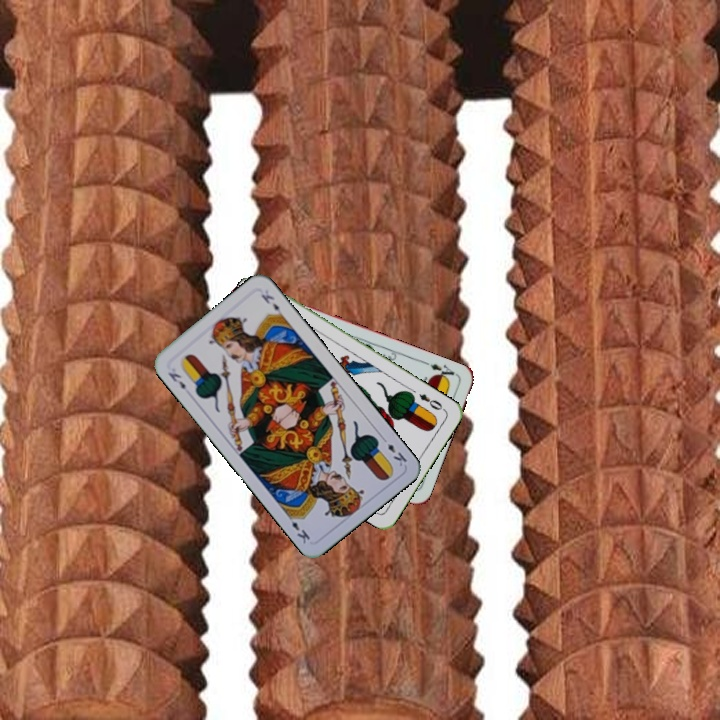EA: (426, 360, 457, 383)
EK: (377, 433, 409, 469), (164, 368, 188, 392)
EO: (415, 389, 448, 413)
